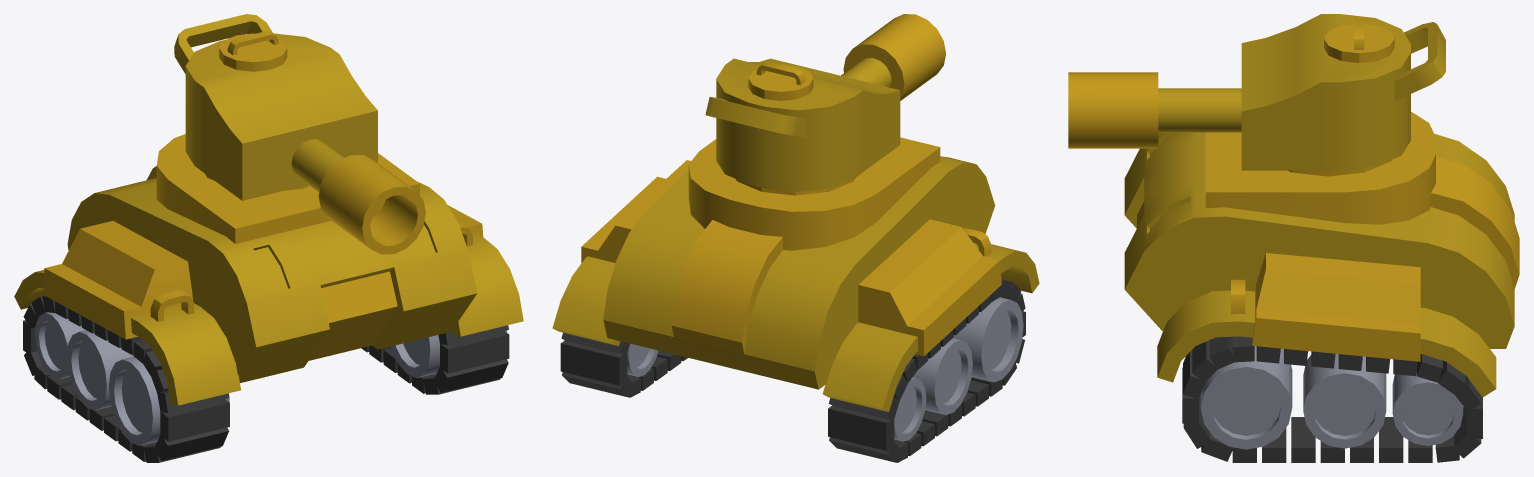
Rendered from prop-tank.glb.
3 renders of one model, left to right at view 1: azimuth 30°, elevation 25°; view 2: azimuth 150°, elevation 25°; view 3: azimuth 270°, elevation 25°, orthographic. The views are drawn at different scales.
Visible parts, largest first — view 1: Tank; view 2: Tank; view 3: Tank.
Boxes of the visible parts, x1,y1,x2,y2 form: Tank: (14, 14, 523, 462); Tank: (552, 14, 1039, 462); Tank: (1068, 14, 1519, 462).
Bounding box in the file's own units: 2.37 × 2.14 × 2.5.
